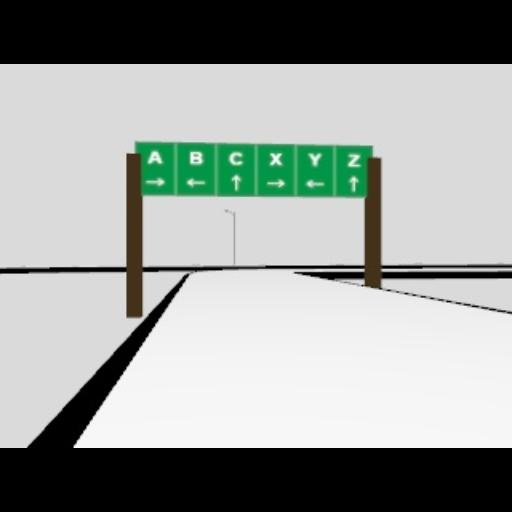A: (145, 149, 163, 163)
B: (189, 151, 203, 165)
C: (227, 151, 243, 165)
Left: (186, 177, 204, 187), (304, 179, 324, 187)
Right: (264, 177, 286, 187), (144, 178, 164, 186)
Straight: (230, 173, 240, 191), (349, 174, 357, 192)
X: (268, 152, 282, 164)
Y: (307, 150, 321, 166)
Z: (347, 152, 361, 166)
